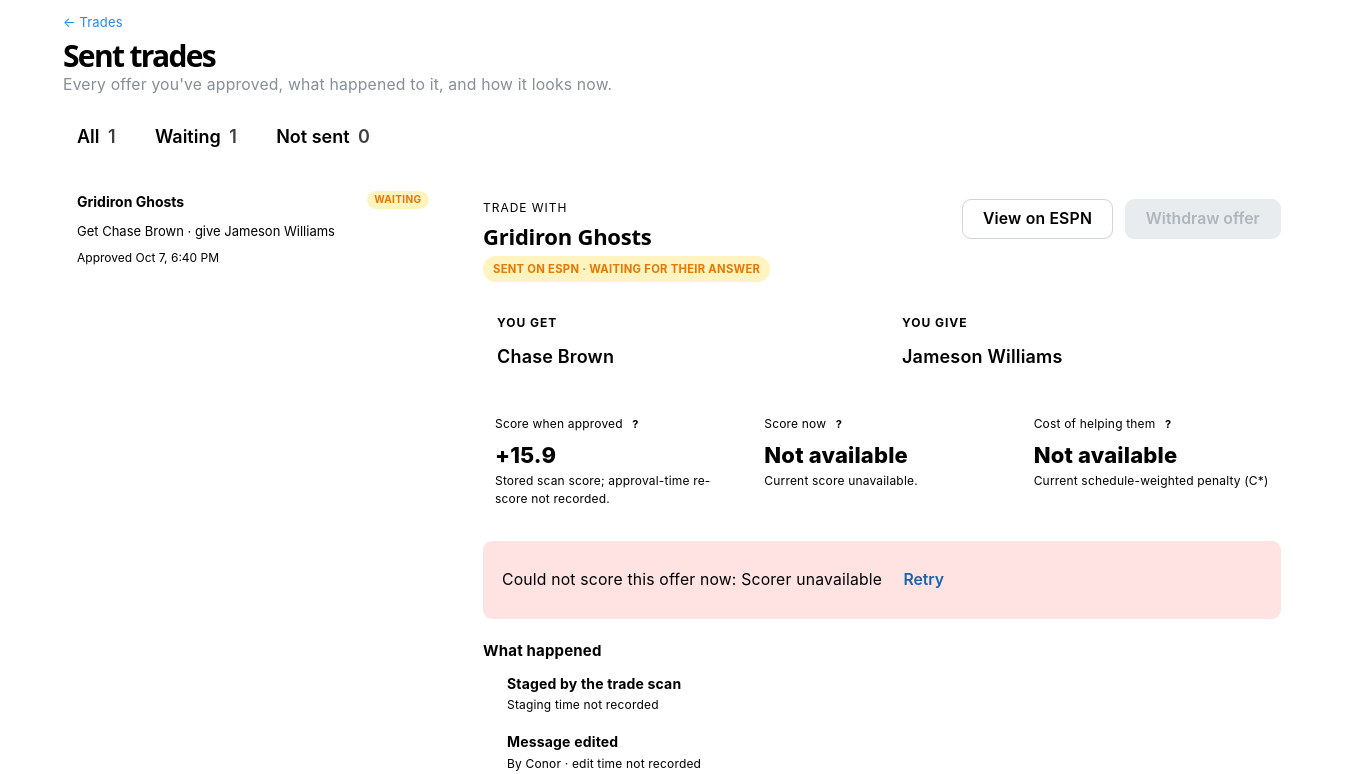
Scenario: shows live score failure separately from the stored evidence and allows retry
The image size is (1366, 774).
Expected: the text "Could not score this offer now: Scorer unavailable Retry" is shown, [502, 560, 965, 600]
Expected: the element named "Review scores" shows "+15.9", [495, 442, 556, 468]
Click the button "Retry".
click(924, 580)  # box [882, 560, 965, 600]
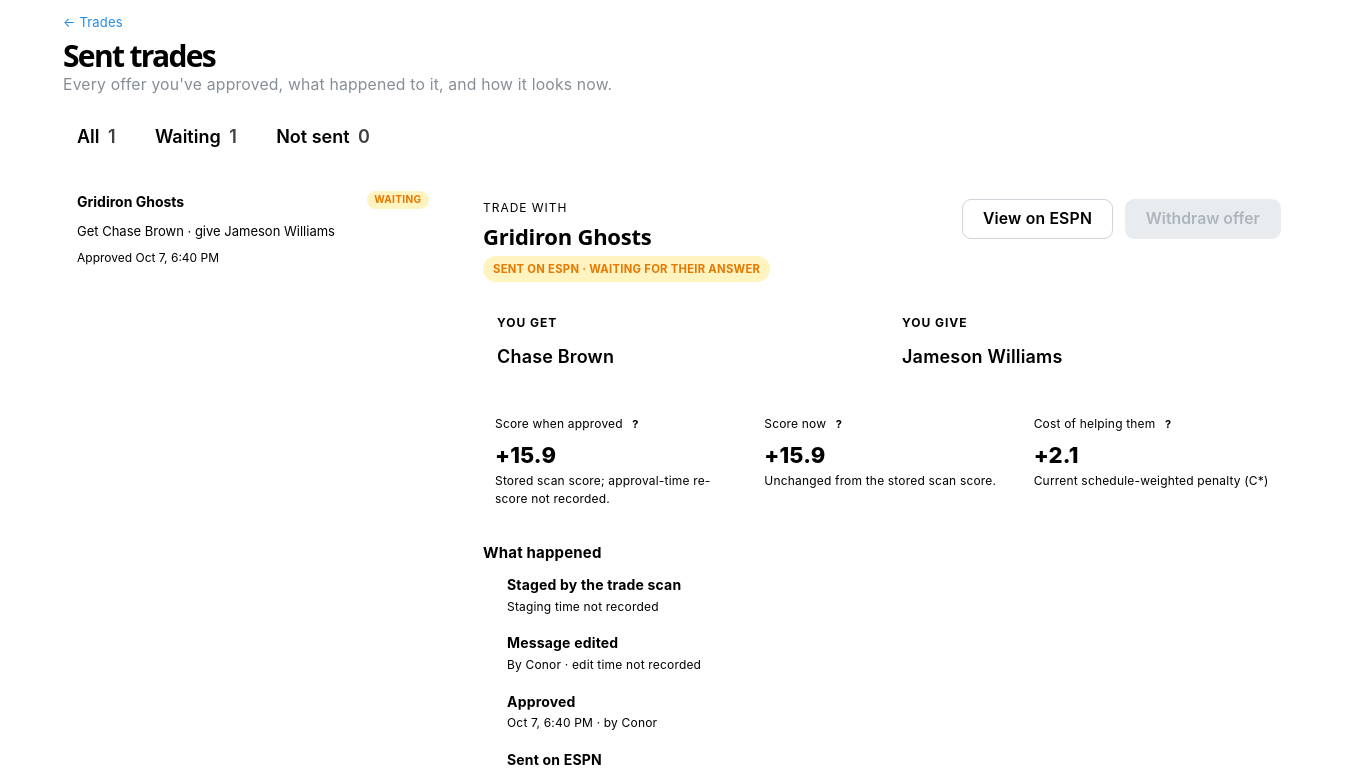
Now the text "Could not score this offer now" is gone
